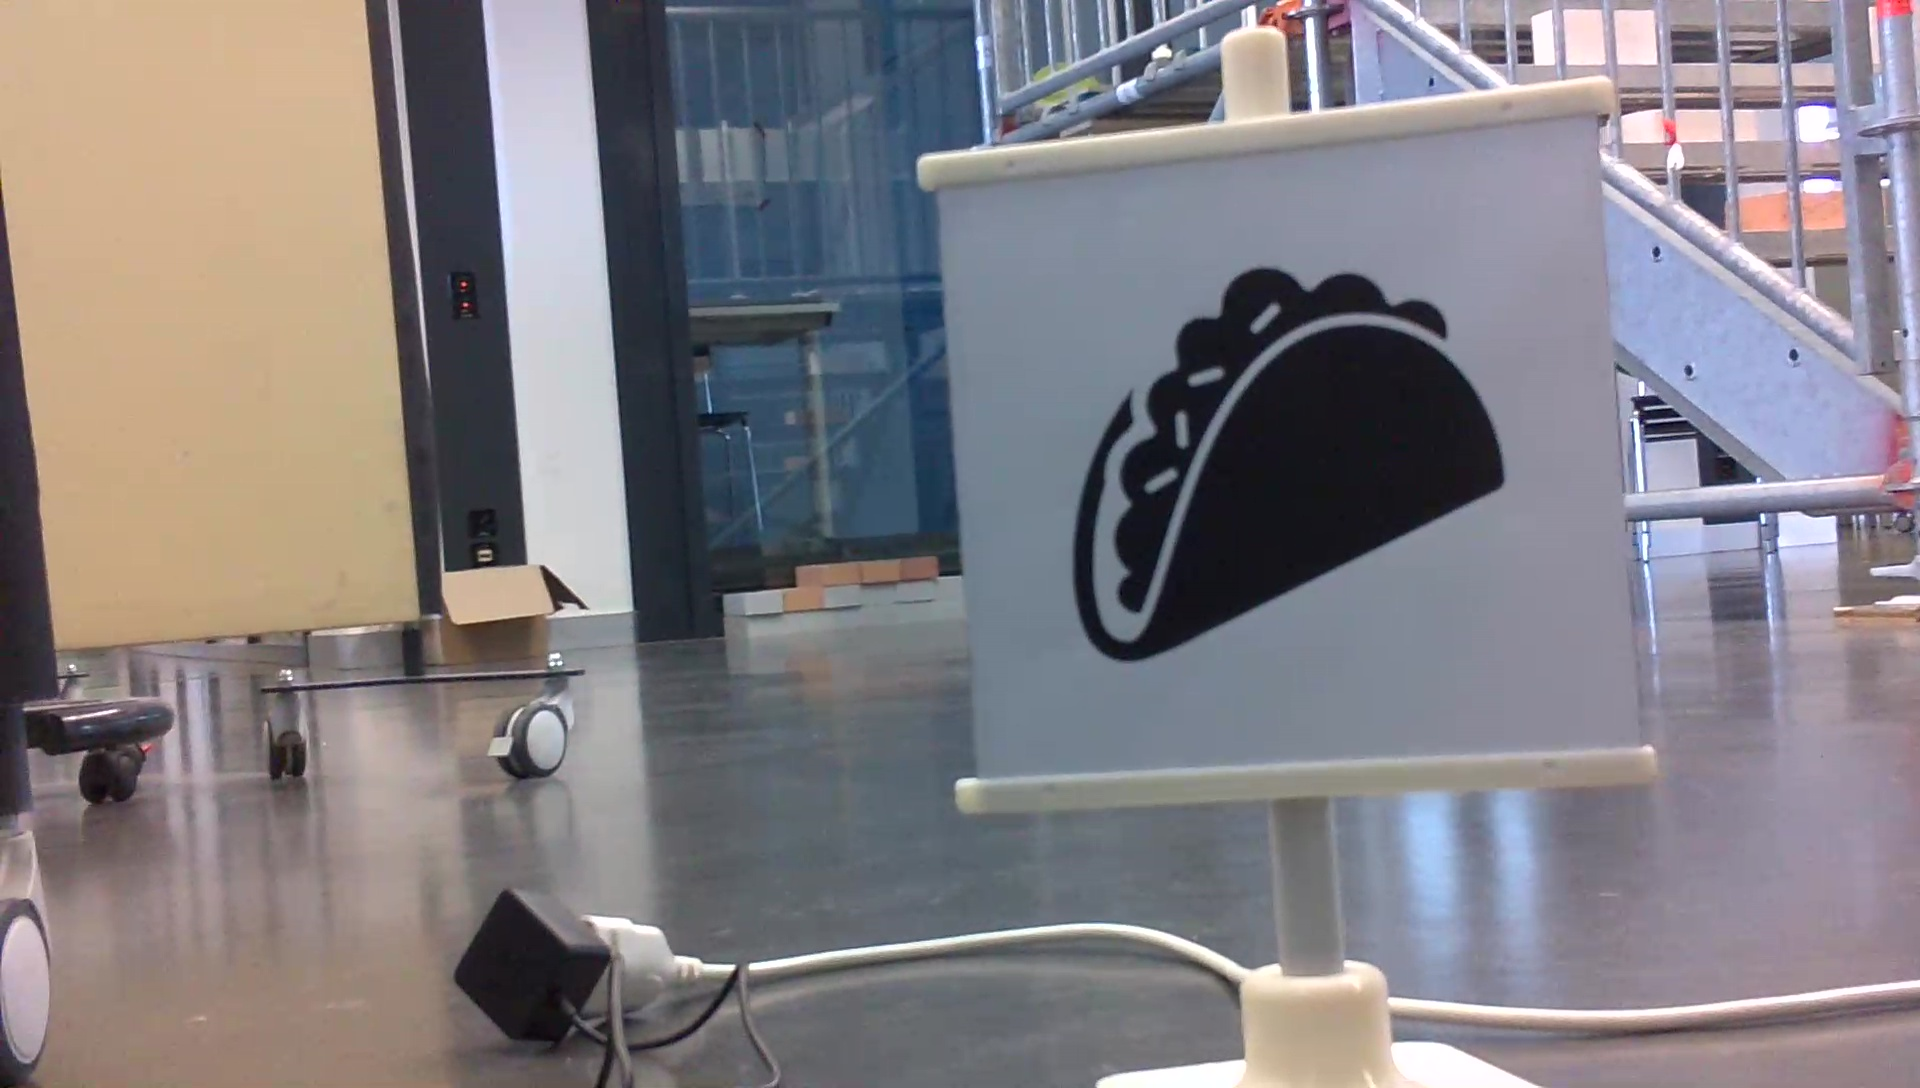taco: (1052, 249, 1518, 667)
